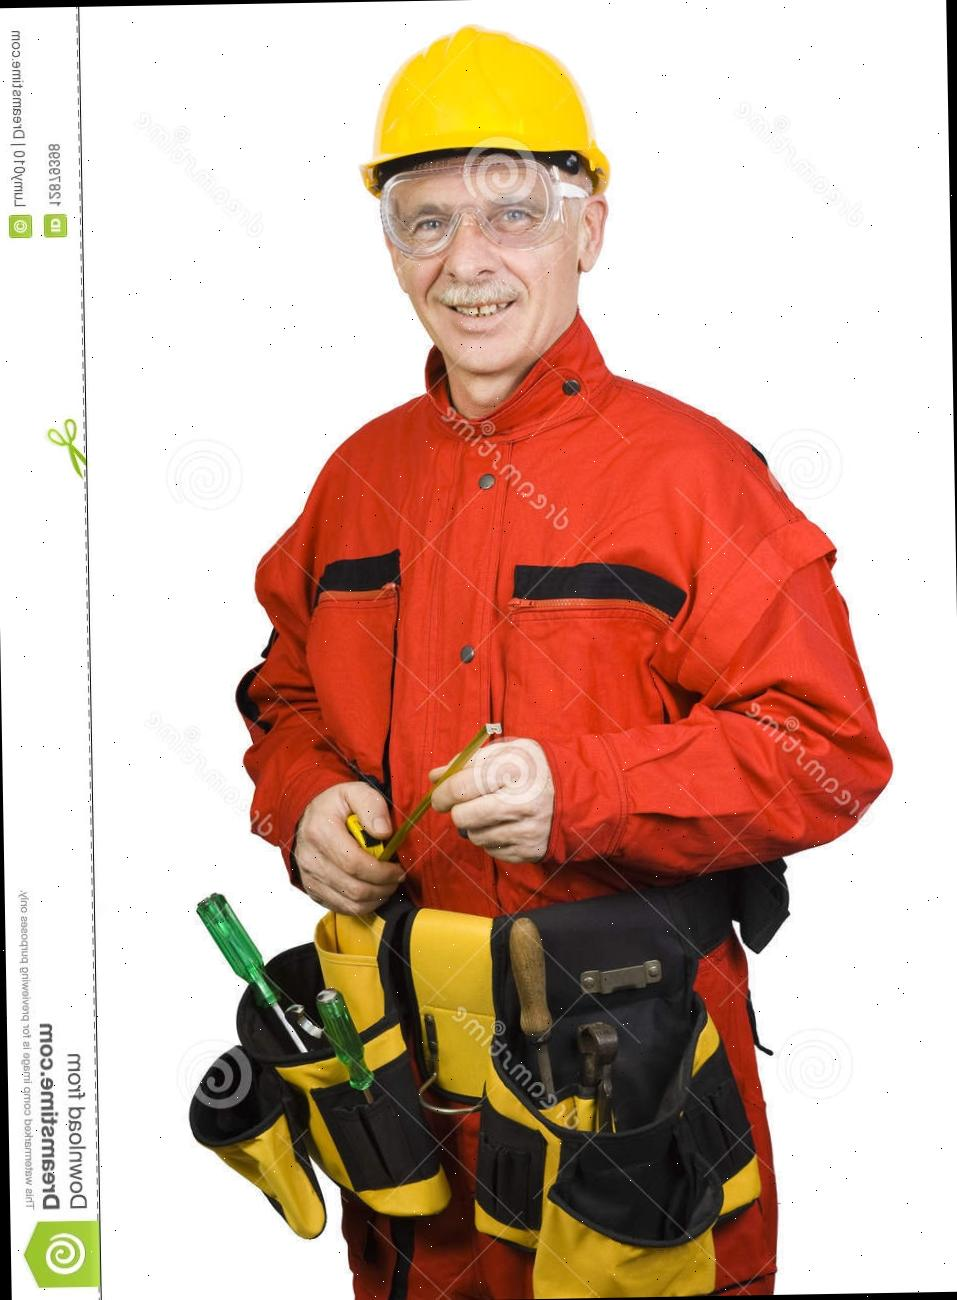helmet: (358, 25, 611, 188)
wear: (269, 395, 842, 971)
